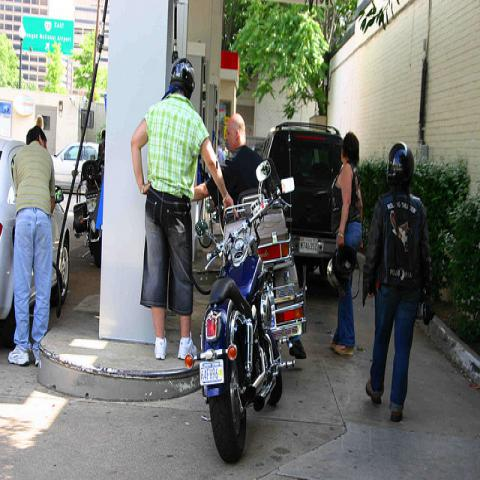car: (0, 140, 71, 341), (52, 142, 99, 191)
motorcycle: (183, 163, 297, 458), (222, 187, 306, 342), (73, 142, 106, 268)
truck: (261, 123, 344, 258)
